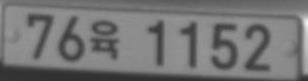1: (148, 19, 170, 65), (179, 21, 201, 66)
2: (243, 22, 270, 70)
5: (210, 23, 236, 68)
6: (59, 15, 84, 61)
7: (27, 13, 53, 59)
육: (89, 19, 118, 60)
